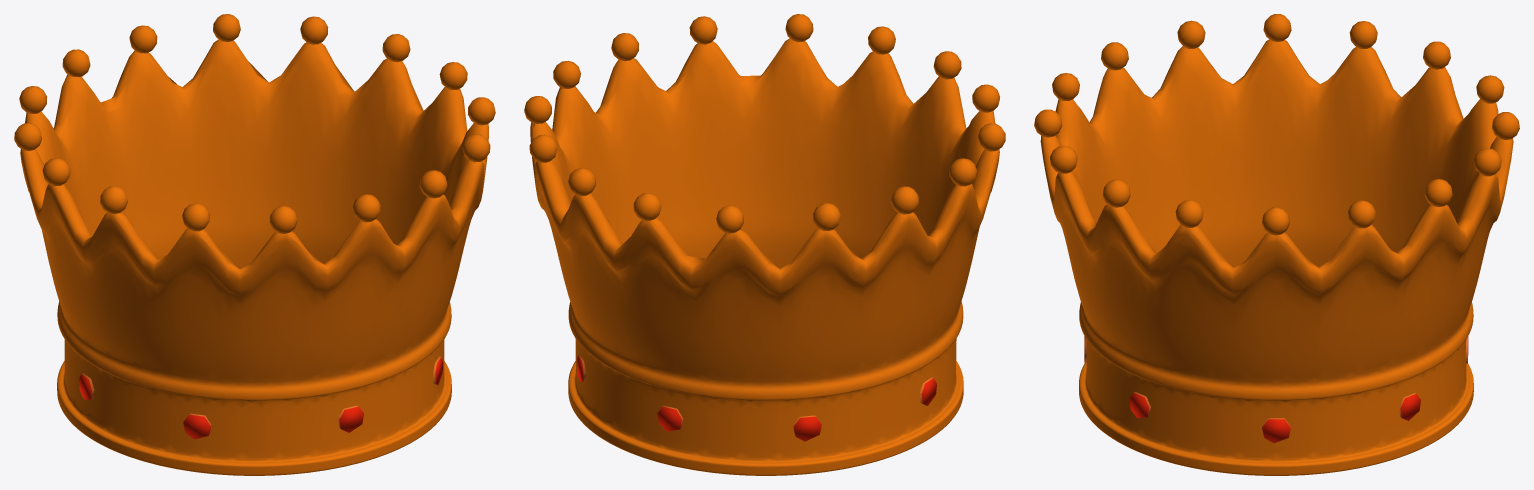
The model's file is Royalty.fbx.
3 views of the same model, side by side, from view 1: azimuth 30°, elevation 25°; view 2: azimuth 150°, elevation 25°; view 3: azimuth 270°, elevation 25° (orthographic).
Parts seen in each view (by area): view 1: Cylinder; view 2: Cylinder; view 3: Cylinder.
Part boxes in pixels (x1,y1,x2,y2): Cylinder: (14,14,495,475); Cylinder: (524,14,1005,475); Cylinder: (1034,14,1519,475).
Bounding box in the file's own units: 254 × 163 × 254.
